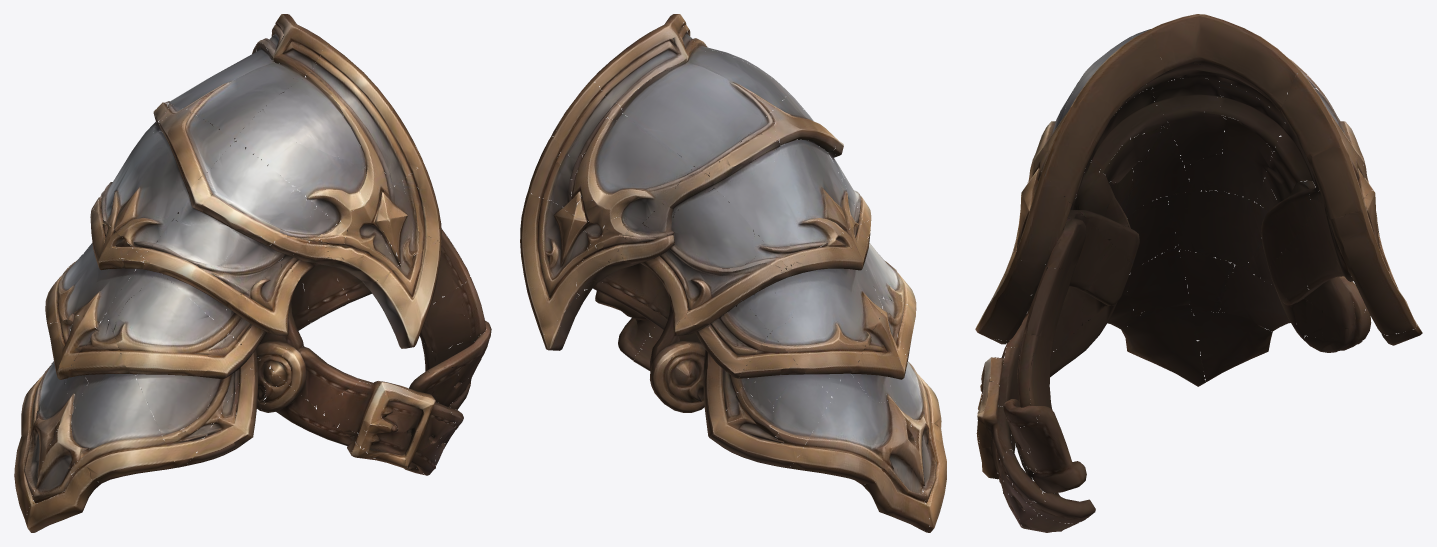
Rendered from pauldron_e.glb.
The picture shows the model from 3 angles, left to right: view 1: azimuth 30°, elevation 25°; view 2: azimuth 150°, elevation 25°; view 3: azimuth 270°, elevation 25°; orthographic projection. The views are drawn at different scales.
Visible parts, largest first — view 1: tripo_node_dbdd447a-6a4a-40b6-beb9-a2a6d8303f38; view 2: tripo_node_dbdd447a-6a4a-40b6-beb9-a2a6d8303f38; view 3: tripo_node_dbdd447a-6a4a-40b6-beb9-a2a6d8303f38.
Boxes of the visible parts, left/top/right/bottom form: tripo_node_dbdd447a-6a4a-40b6-beb9-a2a6d8303f38: left=14, top=14, right=491, bottom=532; tripo_node_dbdd447a-6a4a-40b6-beb9-a2a6d8303f38: left=520, top=14, right=946, bottom=532; tripo_node_dbdd447a-6a4a-40b6-beb9-a2a6d8303f38: left=975, top=14, right=1422, bottom=532.
Size of the model in its own units: 0.9109 by 0.9789 by 0.7641.
1 material, 1 textured.
